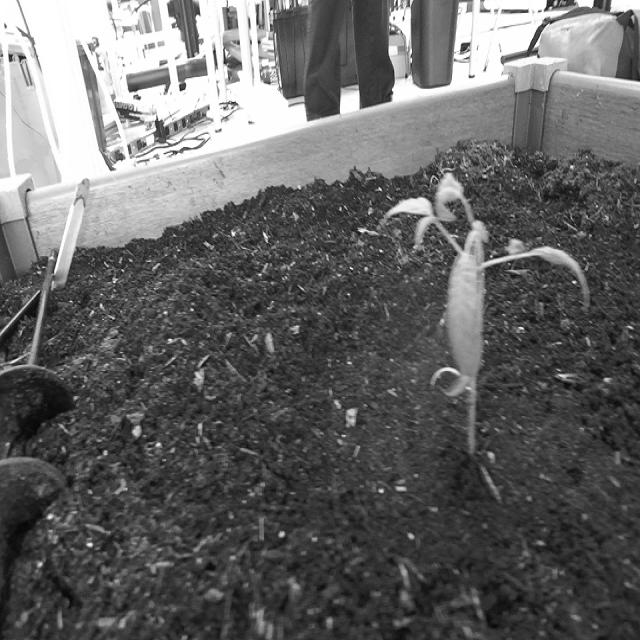Healthy: (373, 163, 594, 480)
